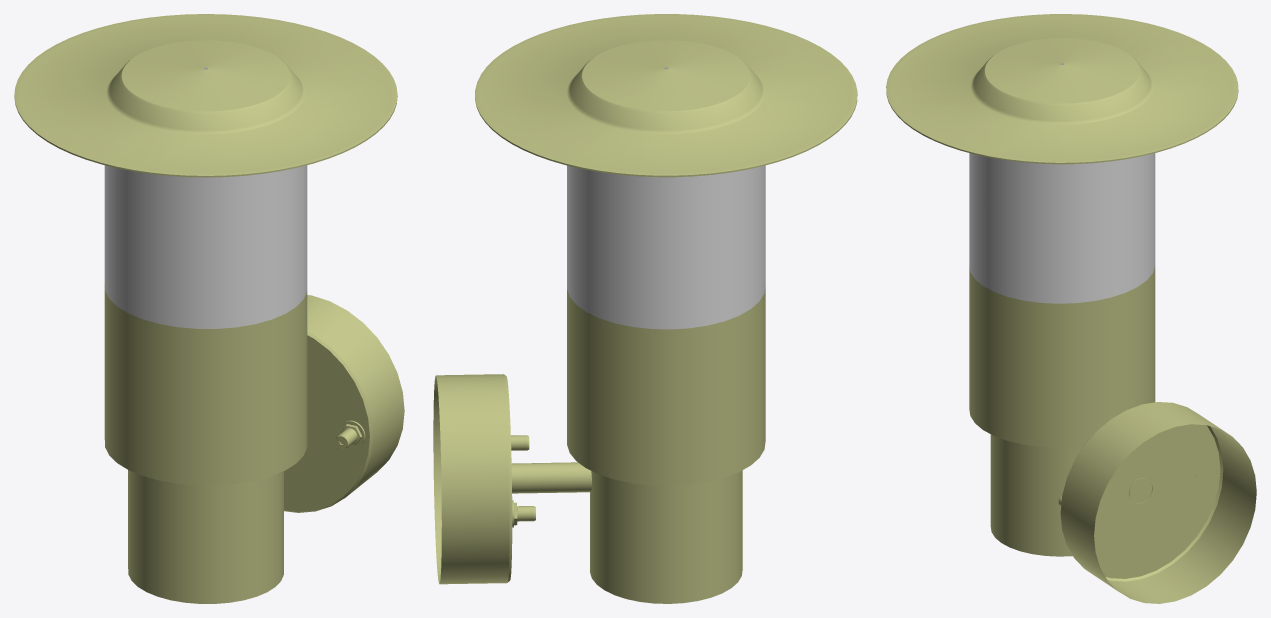
The model's file is Lamp Dinding.fbx.
3 renders of one model, left to right at view 1: azimuth 30°, elevation 25°; view 2: azimuth 150°, elevation 25°; view 3: azimuth 270°, elevation 25°, orthographic. The views are drawn at different scales.
Visible parts, largest first — view 1: sconce_04; view 2: sconce_04; view 3: sconce_04.
Boxes of the visible parts, <box> form: sconce_04: <box>14,14,404,603</box>; sconce_04: <box>433,14,857,603</box>; sconce_04: <box>886,14,1256,603</box>.
Size of the model in its own units: 367 by 462 by 336.
